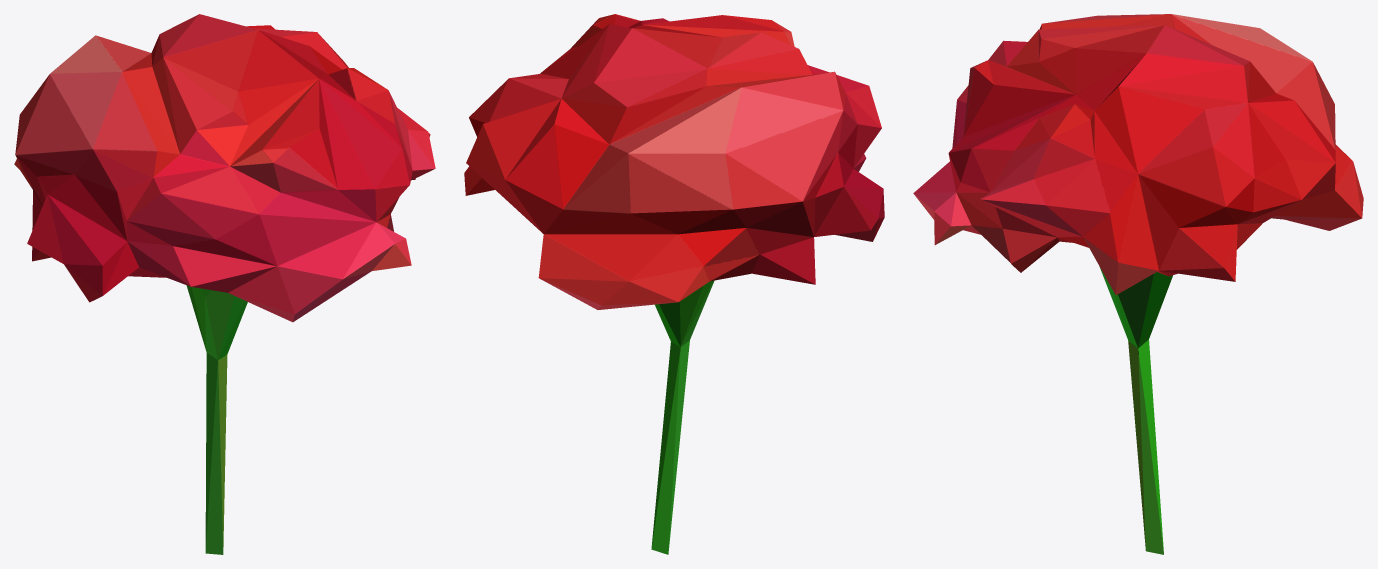
Rendered from red-carnation-flower-meshy.glb.
The picture shows the model from 3 angles, left to right: view 1: azimuth 30°, elevation 25°; view 2: azimuth 150°, elevation 25°; view 3: azimuth 270°, elevation 25°; orthographic projection.
Bounding box in the file's own units: 1.3 × 1.64 × 1.29.
Materials: 1 (1 with a texture image).
